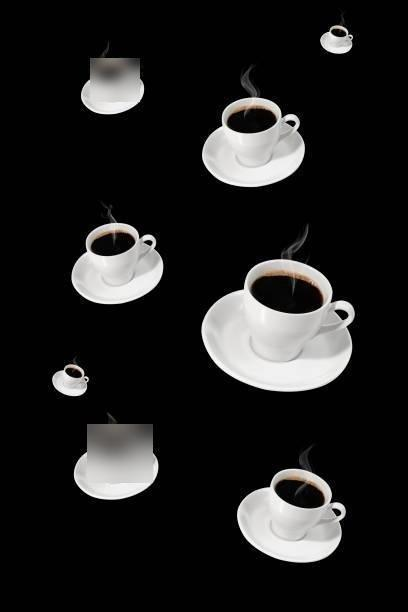cup-handle: (241, 258, 355, 362), (267, 467, 346, 542), (220, 96, 300, 167), (84, 221, 156, 286)
